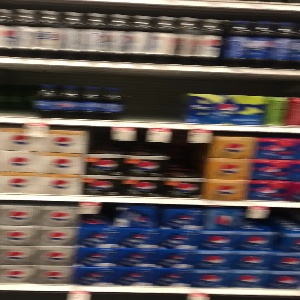void: (126, 69, 187, 124), (1, 65, 33, 117)
